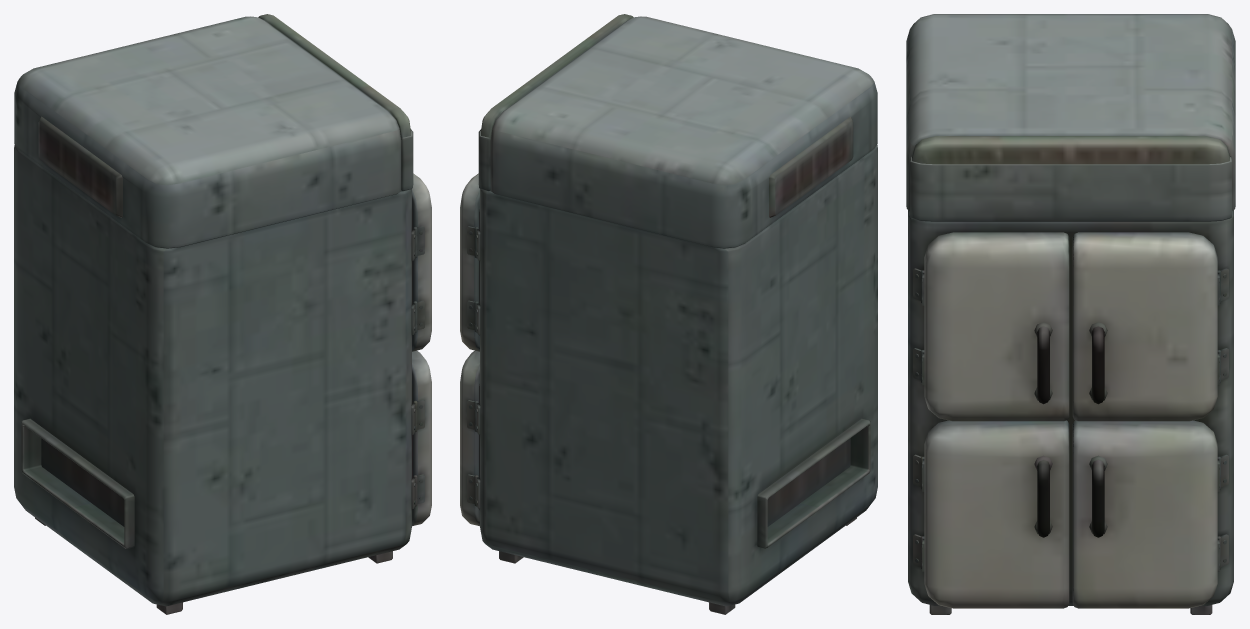
Rendered from SM_FridgeLarge_5253f4.glb.
The picture shows the model from 3 angles, left to right: view 1: azimuth 30°, elevation 25°; view 2: azimuth 150°, elevation 25°; view 3: azimuth 270°, elevation 25°; orthographic projection. The views are drawn at different scales.
Bounding box in the file's own units: 1.69 × 2.29 × 1.42.
Materials: 1 (1 with a texture image).
